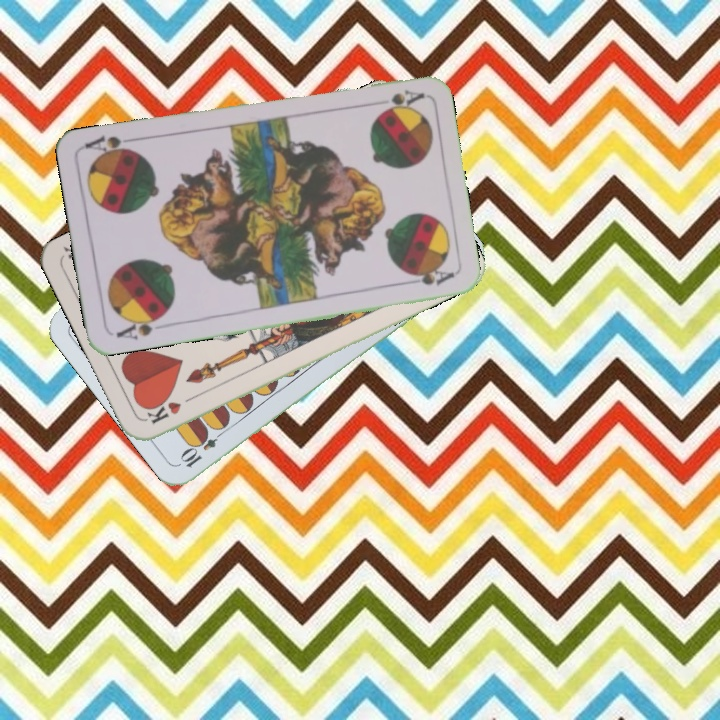E10: (177, 424, 228, 470)
HK: (142, 390, 199, 427)
SA: (112, 310, 169, 342), (367, 85, 426, 114)
